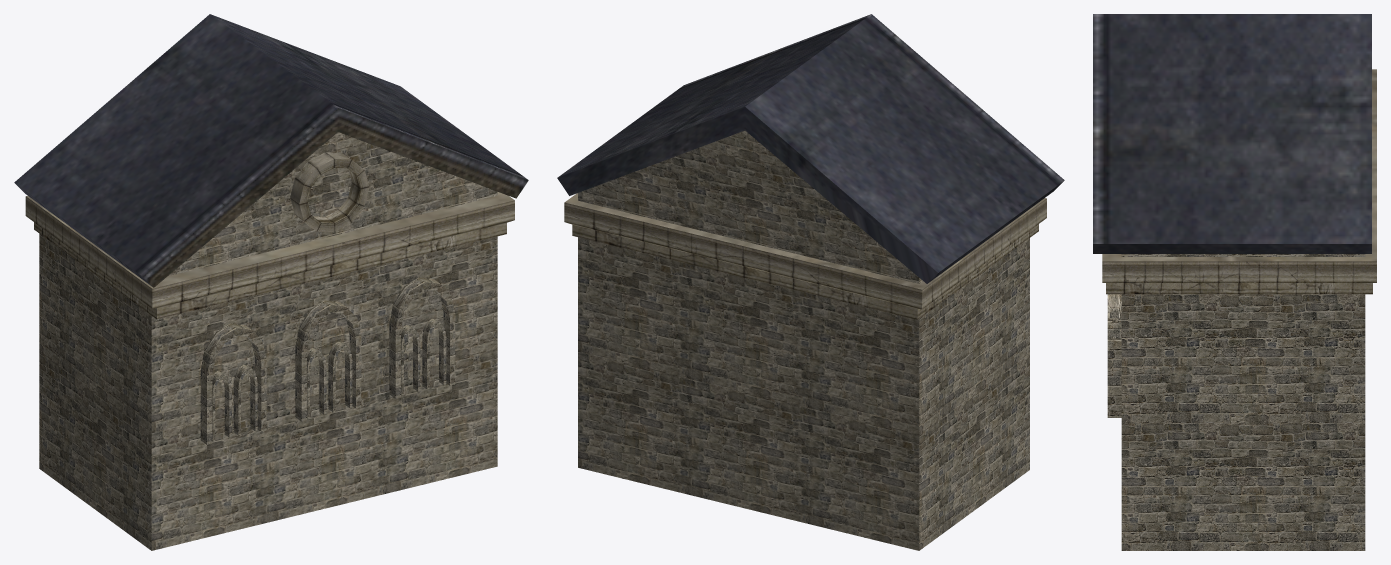
The model's file is SM_EN_2005_jianzhu06.FBX.
3 renders of one model, left to right at view 1: azimuth 30°, elevation 25°; view 2: azimuth 150°, elevation 25°; view 3: azimuth 270°, elevation 25°, orthographic. The views are drawn at different scales.
Parts seen in each view (by area): view 1: SM_EN_2005_jianzhu0601, SM_EN_2005_jianzhu0602; view 2: SM_EN_2005_jianzhu0601, SM_EN_2005_jianzhu0602; view 3: SM_EN_2005_jianzhu0602, SM_EN_2005_jianzhu0601.
Boxes of the visible parts, left/top/right/bottom form: SM_EN_2005_jianzhu0601: left=39, top=132, right=497, bottom=550; SM_EN_2005_jianzhu0602: left=14, top=14, right=528, bottom=319; SM_EN_2005_jianzhu0601: left=578, top=130, right=1029, bottom=550; SM_EN_2005_jianzhu0602: left=557, top=14, right=1064, bottom=319; SM_EN_2005_jianzhu0602: left=1093, top=14, right=1376, bottom=294; SM_EN_2005_jianzhu0601: left=1107, top=254, right=1365, bottom=550.
Size of the model in its own units: 772 by 783 by 452.
